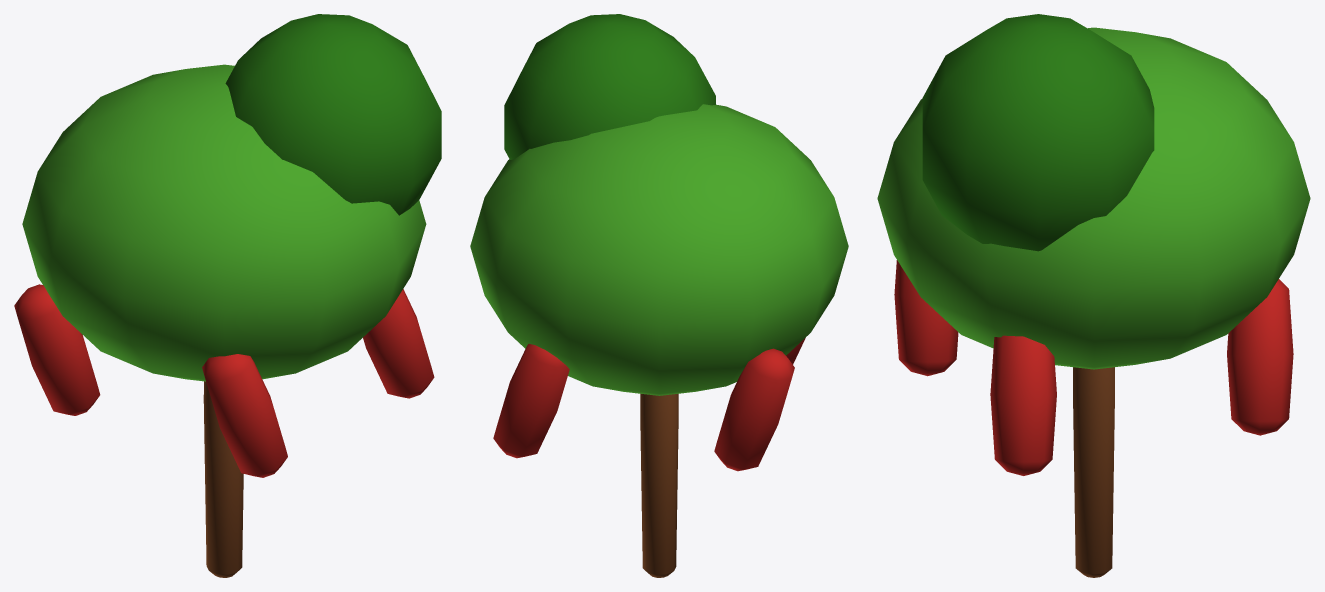
File: pflanze_chili.glb
The picture shows the model from 3 angles, left to right: view 1: azimuth 30°, elevation 25°; view 2: azimuth 150°, elevation 25°; view 3: azimuth 270°, elevation 25°; orthographic projection. The views are drawn at different scales.
Visible parts, largest first — view 1: PflanzeChili; view 2: PflanzeChili; view 3: PflanzeChili.
Boxes of the visible parts, x1,y1,x2,y2 form: PflanzeChili: [14, 14, 441, 577]; PflanzeChili: [470, 14, 848, 577]; PflanzeChili: [877, 14, 1310, 577].
Size of the model in its own units: 0.3137 by 0.47 by 0.312.
Materials: 1 (1 with a texture image).
